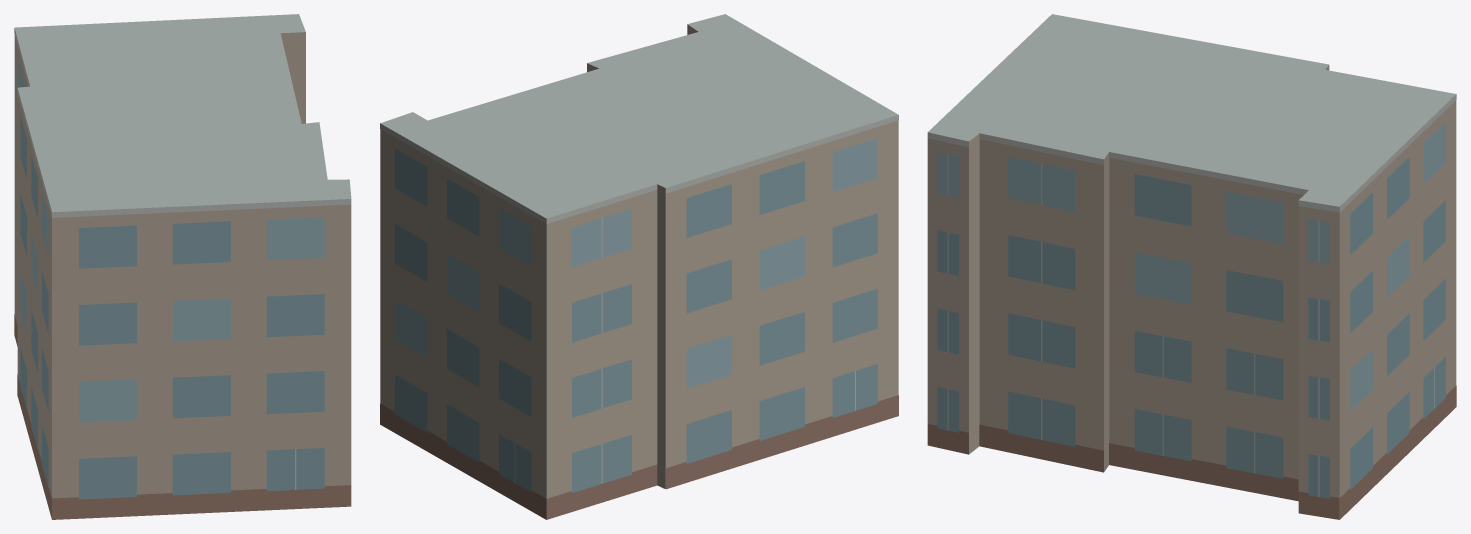
The model's file is survey-upis-32503811.glb.
3 renders of one model, left to right at view 1: azimuth 30°, elevation 25°; view 2: azimuth 150°, elevation 25°; view 3: azimuth 270°, elevation 25°, orthographic. The views are drawn at different scales.
Visible parts, largest first — view 1: survey-upis-32503811.tmp; view 2: survey-upis-32503811.tmp; view 3: survey-upis-32503811.tmp.
Boxes of the visible parts, box(x1,y1,x2,y2) form: survey-upis-32503811.tmp: box(14, 14, 351, 519); survey-upis-32503811.tmp: box(380, 14, 898, 519); survey-upis-32503811.tmp: box(927, 14, 1456, 519).
Bounding box in the file's own units: 17.45 × 13.2 × 20.22.
